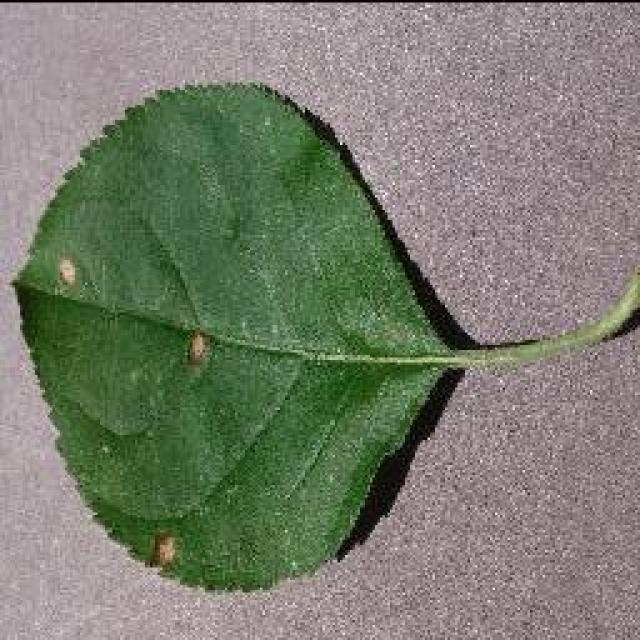Black_rot: (8, 78, 638, 592)
